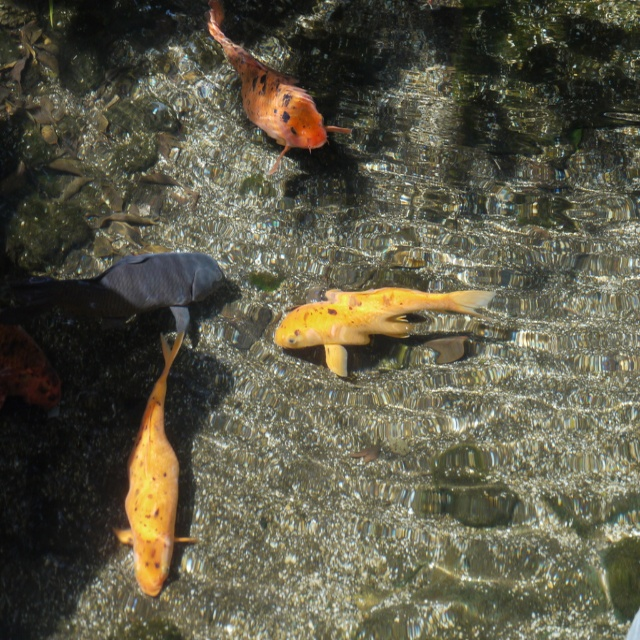Fish: (208, 0, 356, 176), (111, 328, 199, 598), (0, 252, 226, 344), (273, 286, 496, 379), (0, 324, 60, 406)
